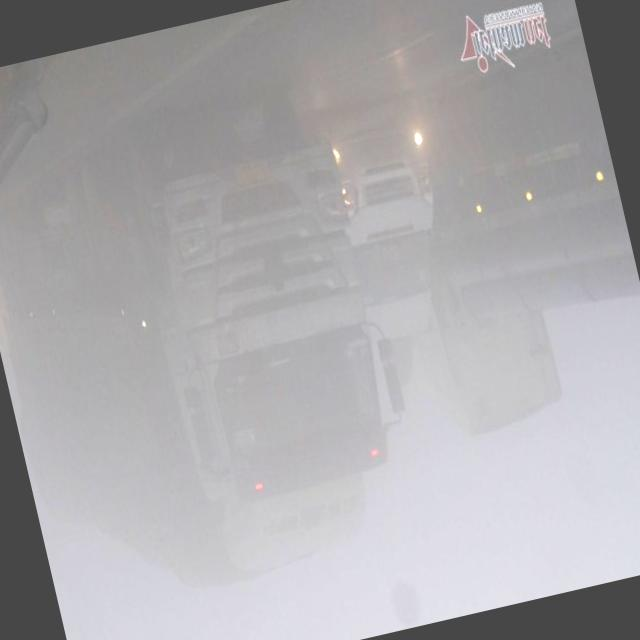Truck: (0, 77, 438, 620)
